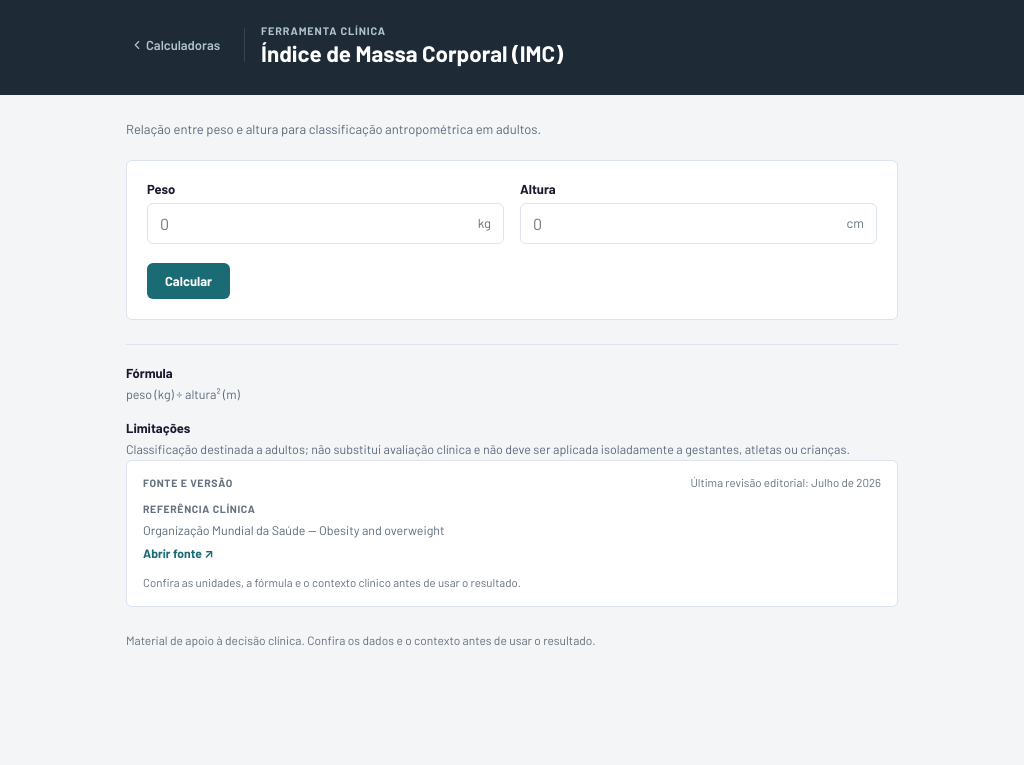
Test case: CalculadoraDetalhe › calcula e exibe IMC sem login
Type "70" into the field labelled "Peso kg" at (313, 224), box [148, 204, 478, 243]
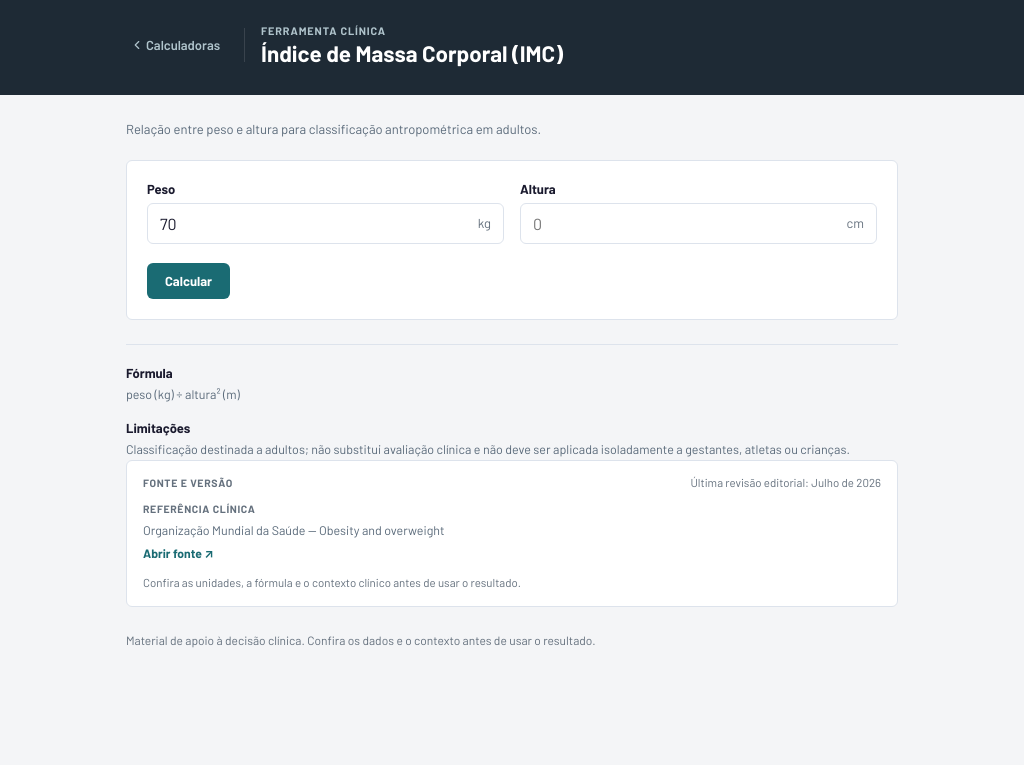
Type "175" into the field labelled "Altura cm" at (684, 224), box [521, 204, 846, 243]
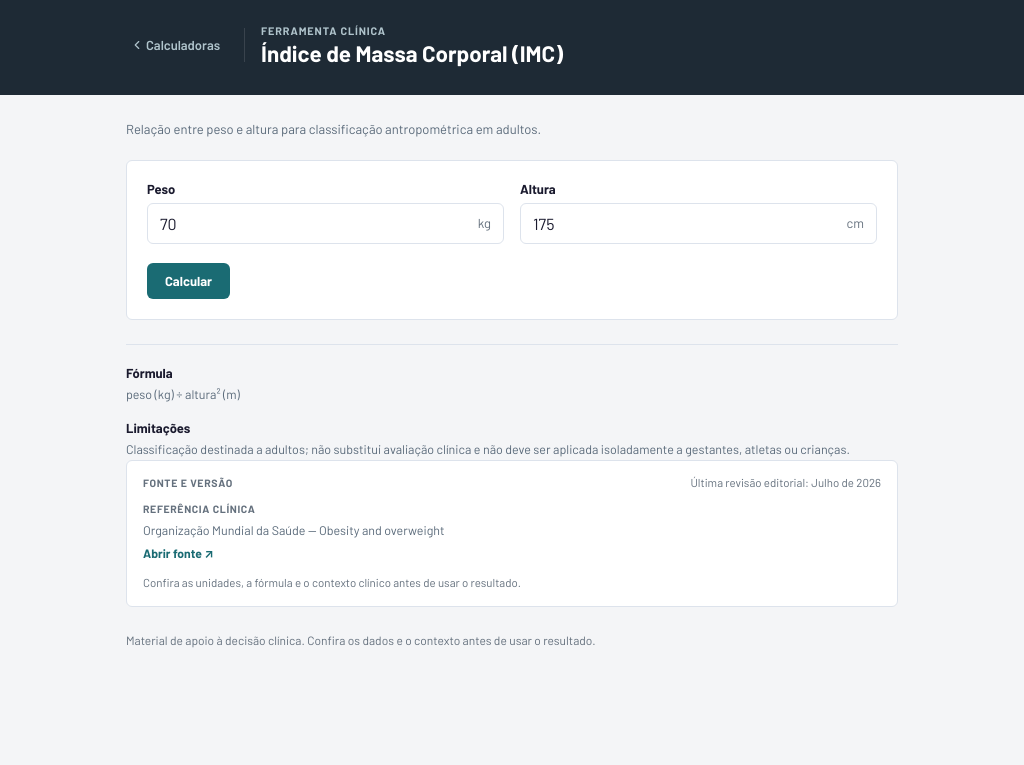
Click the button "Calcular" at (188, 281), box [147, 263, 230, 299]
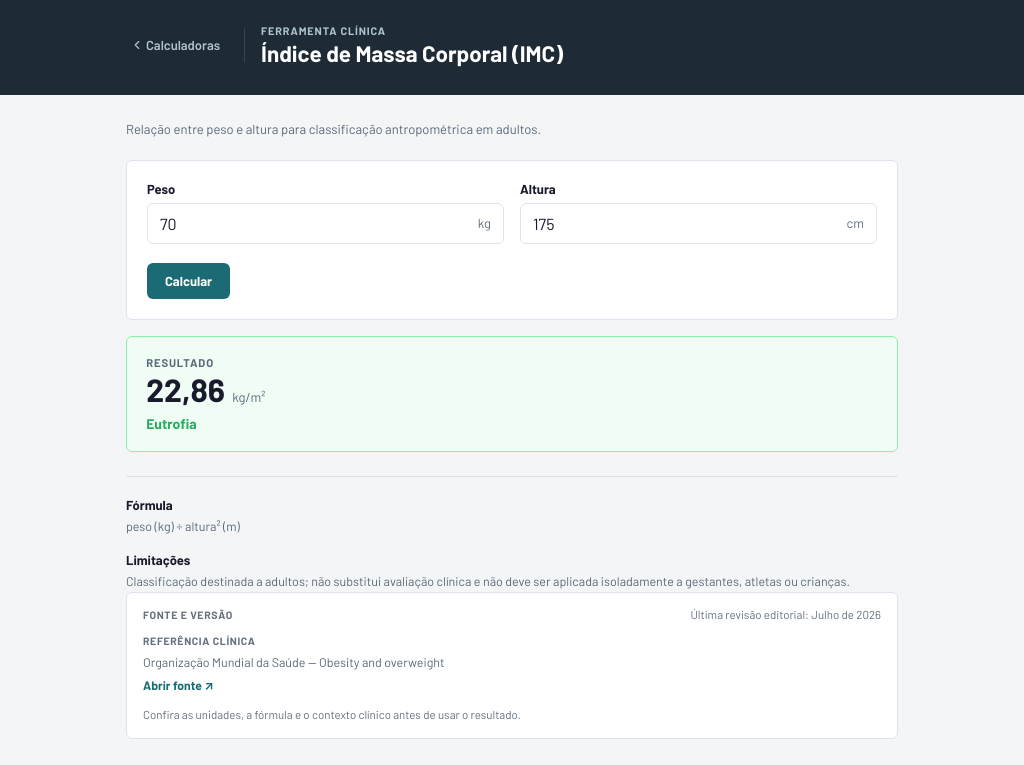
Expected: the text "22,86" is shown, [146, 373, 225, 405]
Expected: the text "Eutrofia" is shown, [146, 415, 197, 432]
